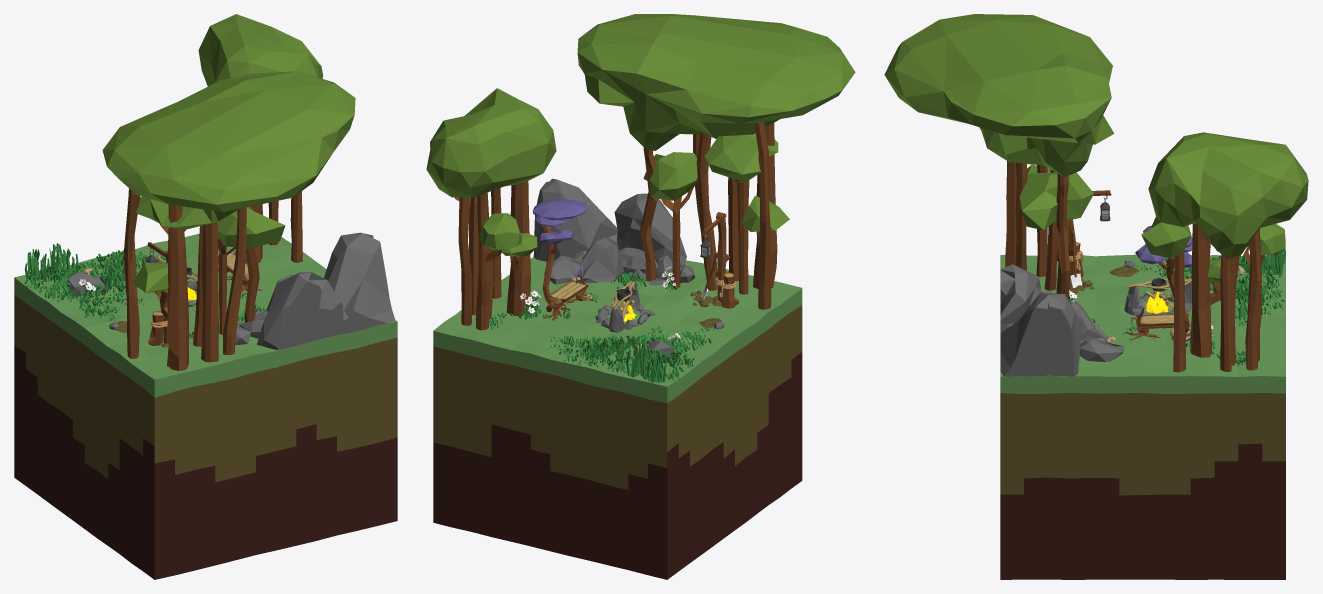
File: low_poly_forest_campfire.glb
3 renders of one model, left to right at view 1: azimuth 30°, elevation 25°; view 2: azimuth 150°, elevation 25°; view 3: azimuth 270°, elevation 25°, orthographic. The views are drawn at different scales.
Parts seen in each view (by area): view 1: Cube, Mball.010, Mball.000, Icosphere.027, Icosphere.028, Cylinder.009, Cylinder.010, Cylinder.006, Cylinder.007, Cylinder.011, Cylinder.004, Cylinder.012 (+3 smaller); view 2: Cube, Mball.010, Mball.000, Icosphere.027, Icosphere.028, Cylinder.006, Cylinder.001, Mball.011, Icosphere.006, Mball.006, Cylinder.002, Cylinder.012 (+13 smaller); view 3: Cube, Mball.010, Mball.000, Icosphere.027, Cylinder.001, Icosphere.028, Cylinder.005, Cylinder.003, Cylinder.011, Cylinder.004, Mball.011, Cylinder.010 (+7 smaller).
Boxes of the visible parts, x1,y1,x2,y2 form: Cube: (14, 233, 397, 579); Mball.010: (102, 71, 355, 292); Mball.000: (198, 14, 323, 86); Icosphere.027: (324, 232, 395, 334); Icosphere.028: (257, 272, 343, 350); Cylinder.009: (156, 204, 188, 370); Cylinder.010: (201, 221, 218, 362); Cylinder.006: (123, 188, 140, 358); Cylinder.007: (223, 207, 246, 354); Cylinder.011: (245, 206, 259, 322); Cylinder.004: (290, 191, 302, 262); Cylinder.012: (193, 225, 203, 346); Cube: (433, 257, 802, 579); Mball.010: (577, 14, 855, 231); Mball.000: (426, 88, 556, 197); Icosphere.027: (533, 178, 617, 261); Icosphere.028: (614, 193, 686, 265); Cylinder.006: (754, 122, 771, 309); Cylinder.001: (506, 181, 530, 316); Mball.011: (479, 213, 537, 256); Icosphere.006: (577, 237, 624, 282); Mball.006: (532, 199, 586, 244); Cylinder.002: (476, 193, 501, 330); Cylinder.012: (696, 132, 717, 290); Cube: (1000, 254, 1285, 579); Mball.010: (884, 14, 1114, 230); Mball.000: (1141, 132, 1308, 258); Icosphere.027: (1000, 292, 1082, 376); Cylinder.001: (1190, 224, 1220, 357); Icosphere.028: (1000, 264, 1040, 332); Cylinder.005: (1245, 230, 1261, 370); Cylinder.003: (1202, 231, 1237, 371); Cylinder.011: (1056, 173, 1070, 299); Cylinder.004: (1173, 251, 1185, 372); Mball.011: (1207, 224, 1285, 283); Cylinder.010: (1006, 161, 1016, 266).
Size of the model in its own units: 24.67 by 34.09 by 28.82.
